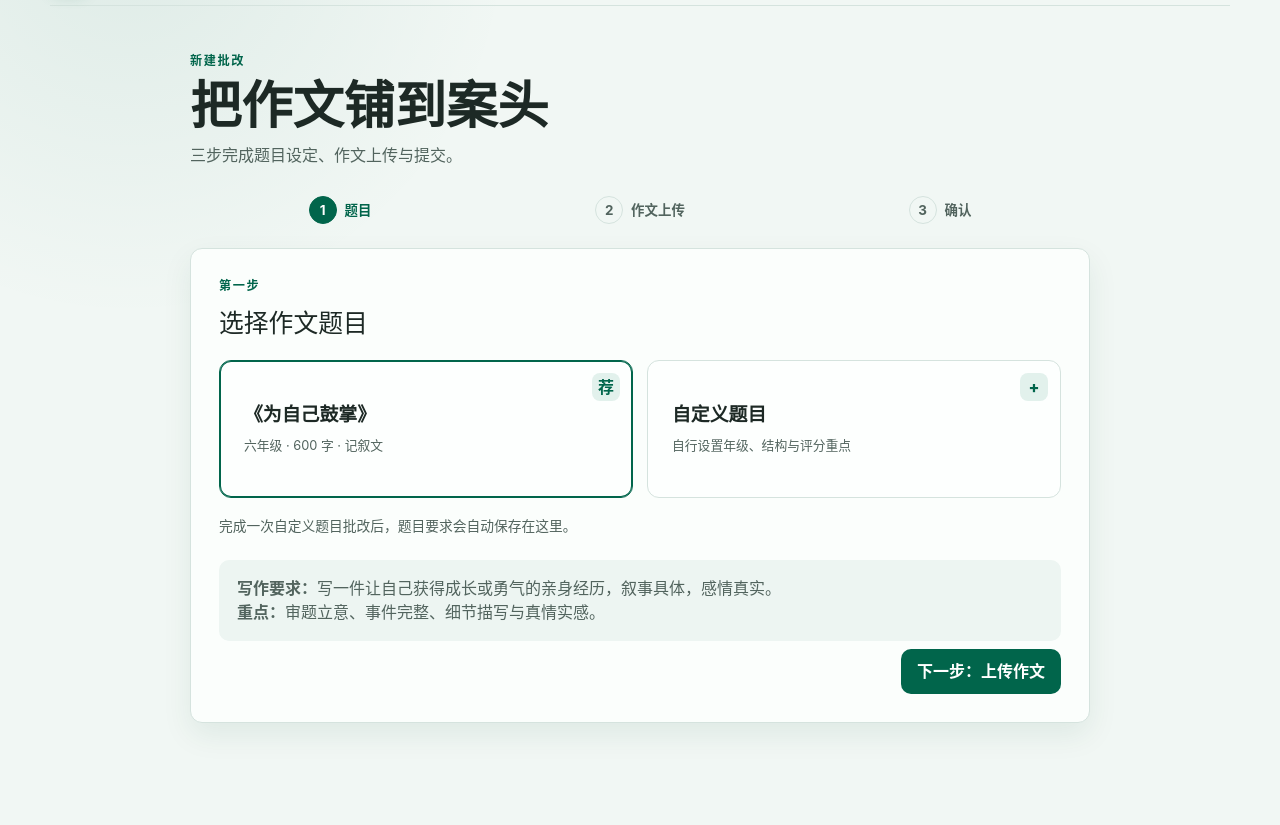
Test: 新建作文批改 › 生成期间修改题目时不覆盖新的题目和教师要求
Click the button "+ 自定义题目 自行设置年级、结构与评分重点". click: [719, 414]
box: [647,360,1061,498]
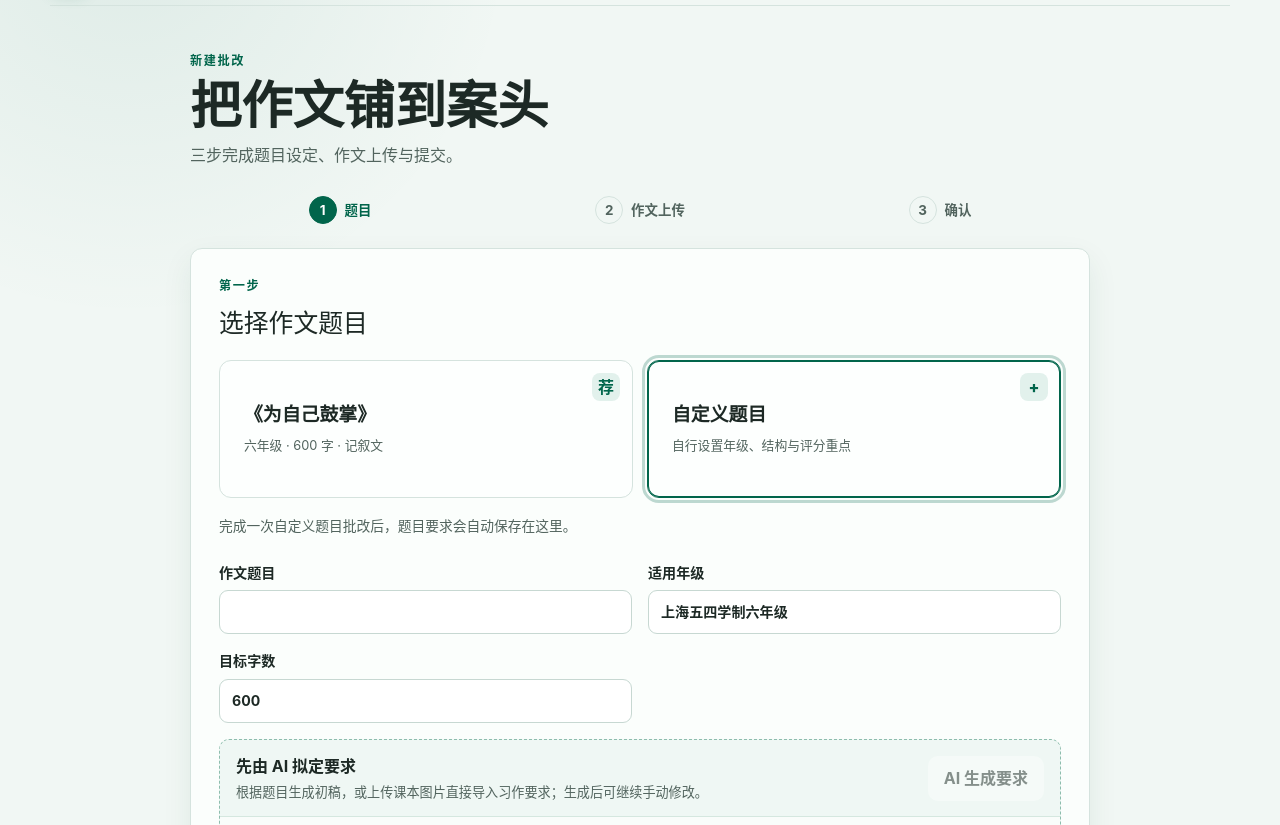
Type "旧题目" into the field labelled "作文题目". click: [426, 612]
box: [219,590,632,634]
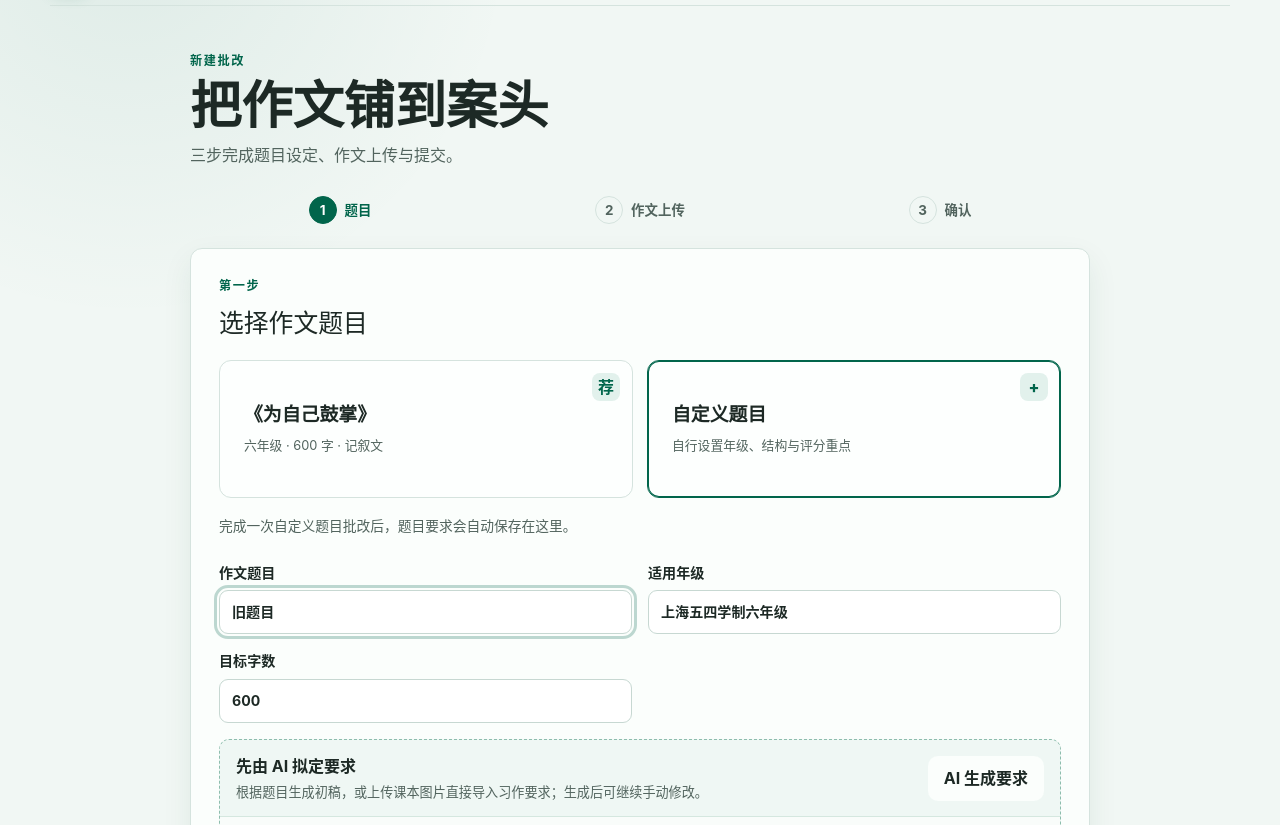
Click the button "AI 生成要求". click: [986, 778]
box: [928,756,1044,801]
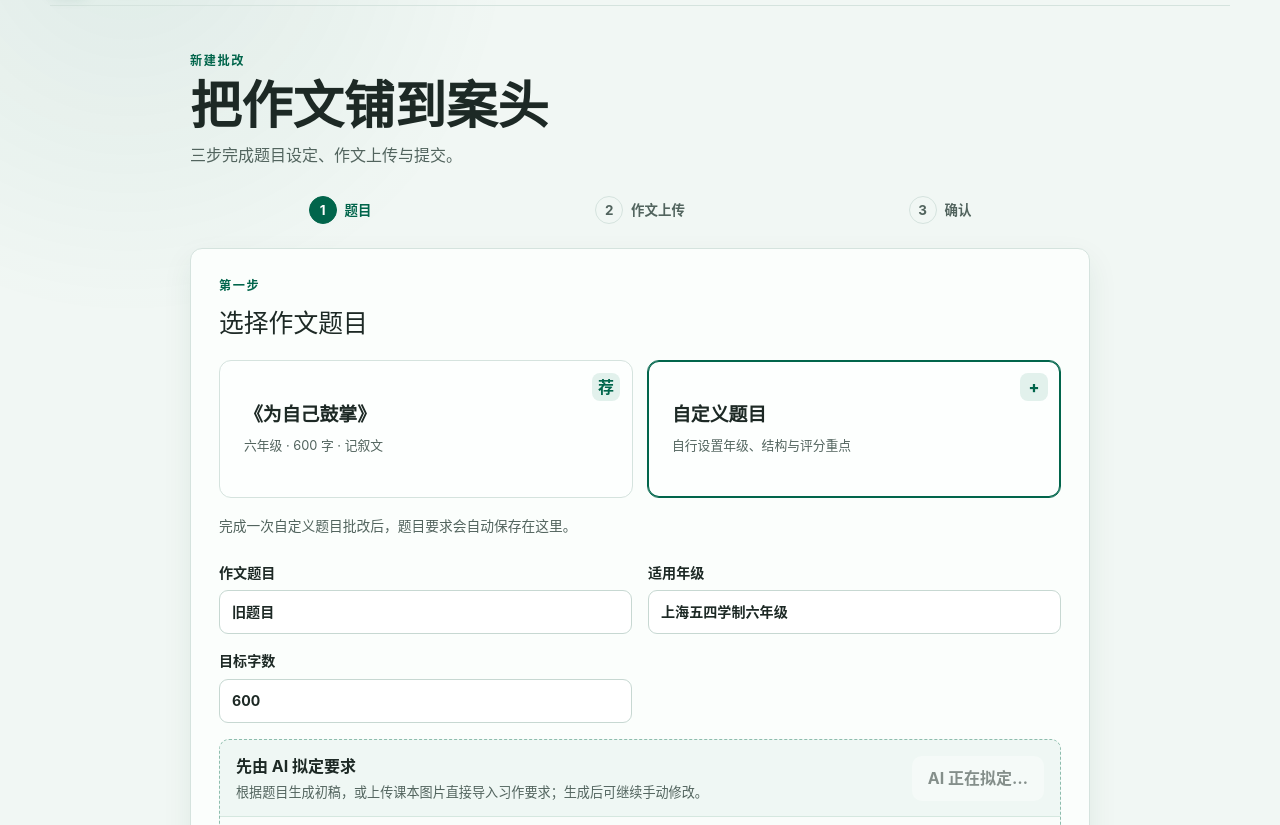
Replace the text in the field labelled "作文题目" with "新题目". click: [426, 612]
box: [219,590,632,634]
(page scrolled)
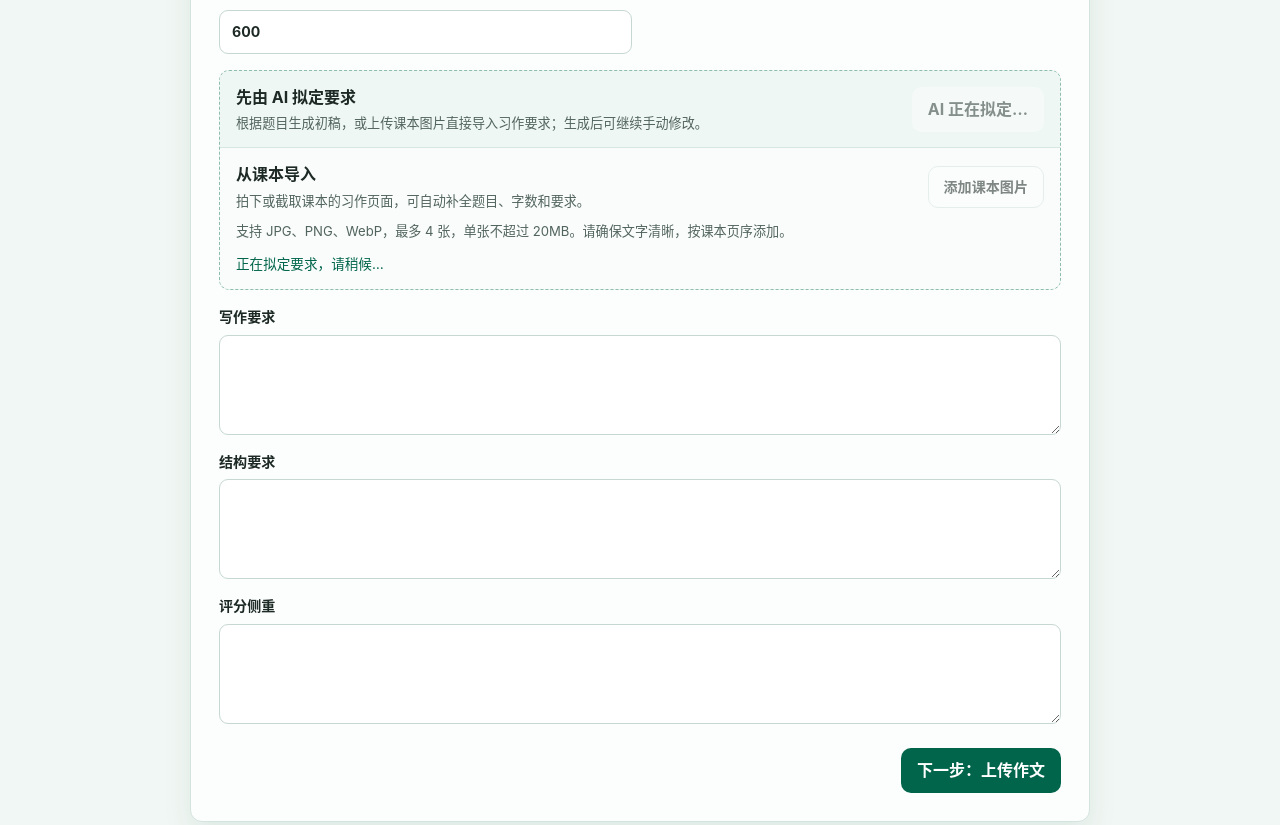
Type "新的教师要求" into the text box labelled "写作要求". click: [640, 385]
box: [219,335,1061,435]
(page scrolled)
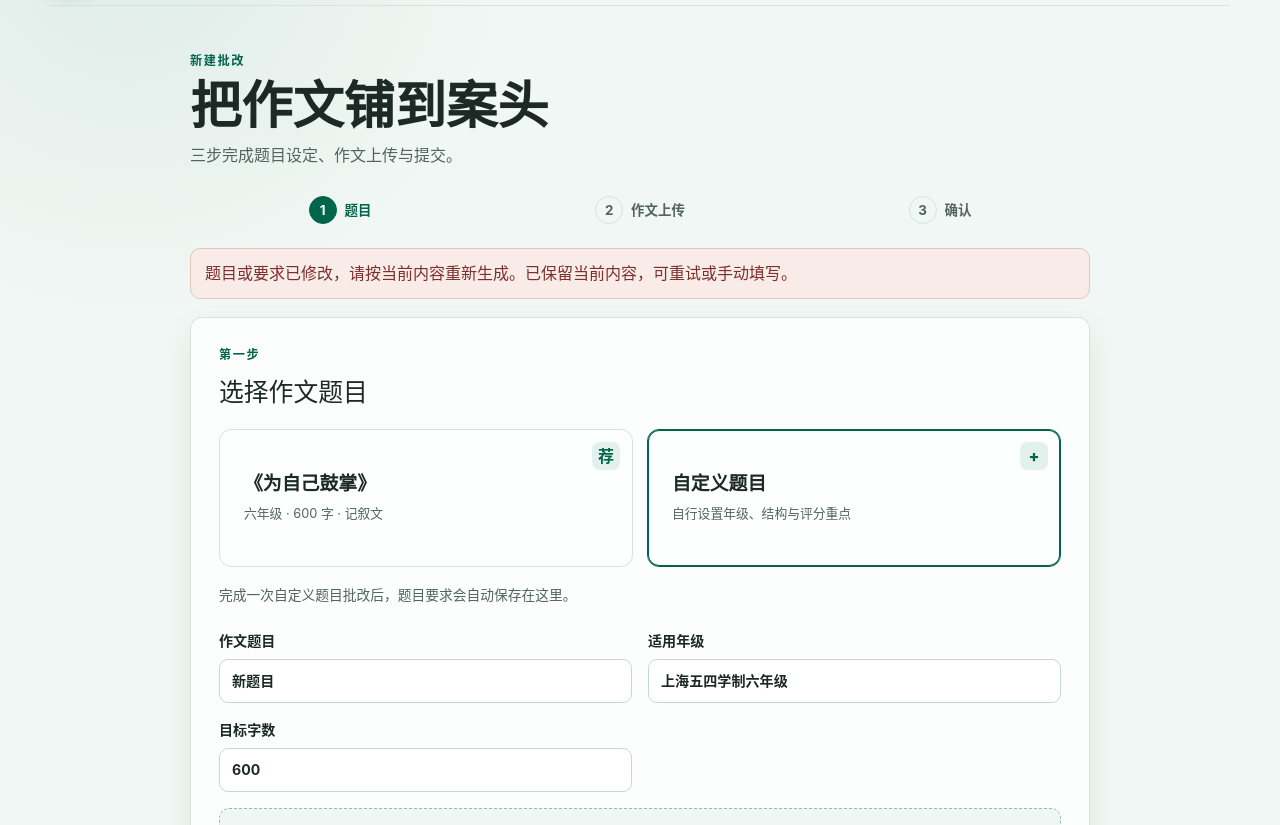
Now the message shows "已修改", box [190,248,1090,299]
